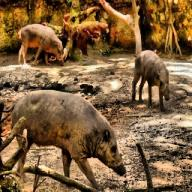boar: (9, 88, 125, 192), (131, 48, 169, 110)
